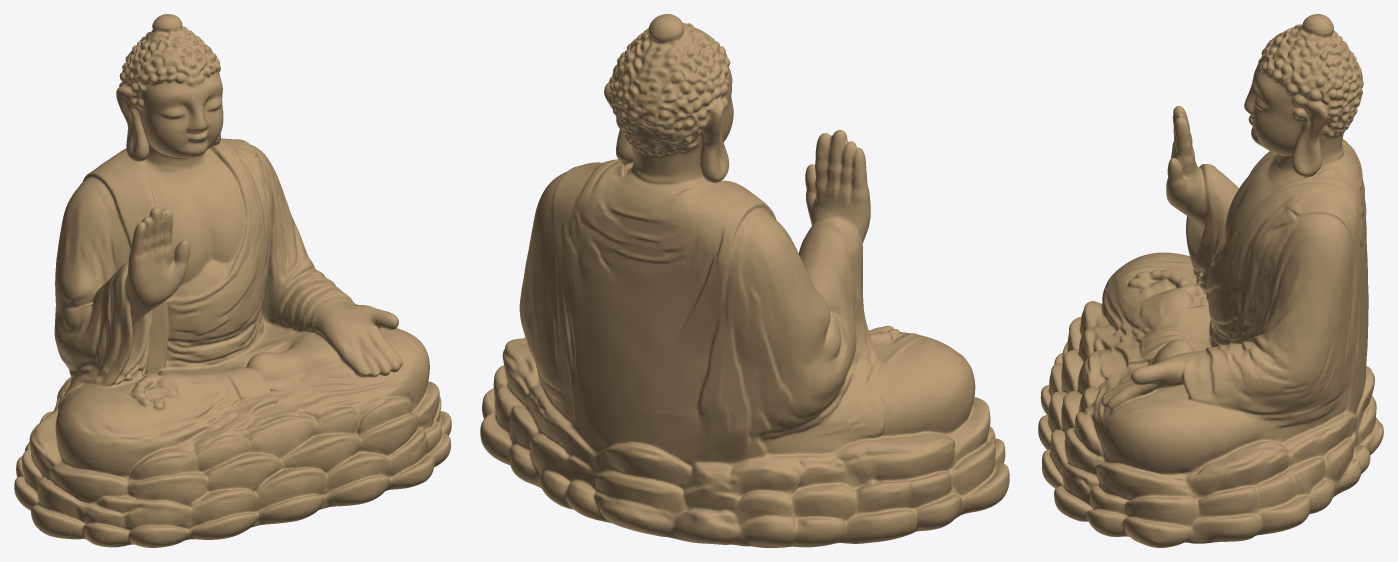
Rendered from jinding-study29.glb.
3 views of the same model, side by side, from view 1: azimuth 30°, elevation 25°; view 2: azimuth 150°, elevation 25°; view 3: azimuth 270°, elevation 25° (orthographic). The views are drawn at different scales.
Parts seen in each view (by area): view 1: world; view 2: world; view 3: world.
Part boxes in pixels (x1,y1,x2,y2): world: (14,14,451,547); world: (480,14,1009,547); world: (1038,14,1383,547).
Bounding box in the file's own units: 1.99 × 1.93 × 1.39.
